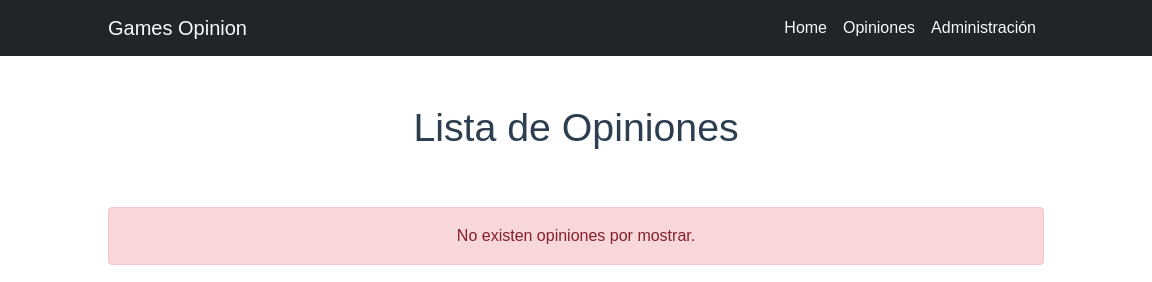
Scenario: Pruebas EndToEnd con Cypress › Visitar Administracion
Click the link with class "nav-link" showing "Administración". click: point(984, 28)
box: [931,19,1036,36]
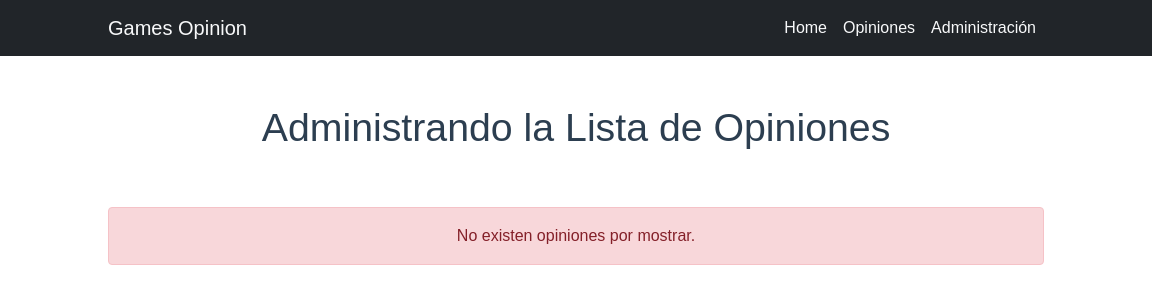
Check: the heading "Administrando la Lista de Opiniones" is shown, box [262,105,890,149]
